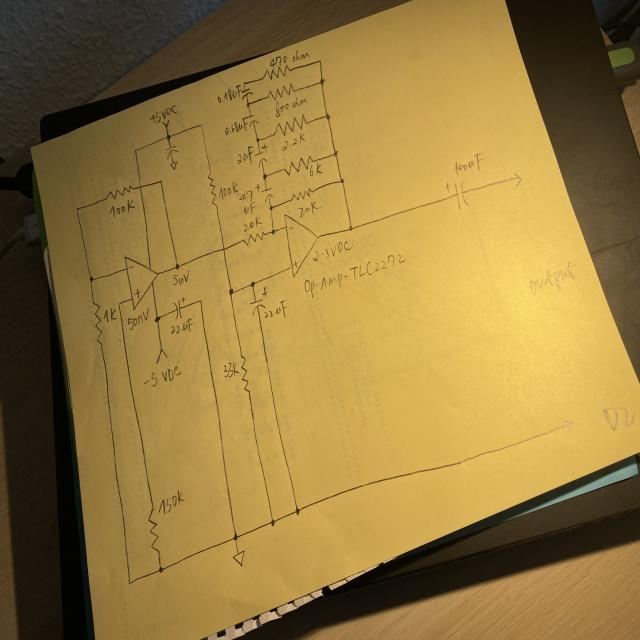capacitor: (445, 180, 469, 210), (249, 286, 268, 316), (255, 184, 273, 204), (172, 296, 185, 321), (255, 142, 267, 168), (164, 143, 179, 160), (246, 114, 258, 128), (241, 88, 254, 100)
crossover: (137, 183, 142, 191), (221, 245, 226, 252)
ground: (232, 548, 246, 568), (170, 160, 178, 169)
junction: (156, 564, 164, 575), (232, 532, 239, 542), (174, 262, 181, 271), (294, 506, 300, 516), (324, 112, 331, 120), (319, 77, 325, 86), (228, 287, 234, 296), (88, 275, 94, 284), (347, 225, 354, 232), (154, 315, 160, 323), (270, 518, 276, 526), (332, 149, 338, 157), (250, 280, 256, 288), (126, 578, 132, 586), (158, 178, 164, 186), (268, 204, 274, 212), (262, 172, 268, 180), (270, 228, 276, 235), (74, 205, 80, 212), (166, 133, 172, 140), (339, 177, 345, 184), (198, 122, 204, 128), (133, 147, 138, 154), (317, 58, 322, 65), (198, 298, 203, 304), (117, 301, 122, 307), (255, 136, 260, 142), (246, 101, 250, 107), (242, 81, 247, 84)
resistor: (273, 113, 308, 137), (283, 155, 317, 176), (148, 508, 161, 552), (267, 82, 296, 101), (92, 301, 104, 345), (105, 184, 134, 202), (240, 354, 252, 393), (262, 65, 291, 81), (290, 187, 314, 203), (242, 230, 265, 246), (206, 172, 216, 206)
terminal: (155, 347, 169, 364), (563, 418, 575, 436), (512, 172, 522, 188), (161, 119, 170, 126)
text: (304, 253, 406, 300), (529, 260, 577, 295), (312, 240, 352, 262), (270, 48, 310, 70), (143, 365, 181, 388), (158, 490, 187, 516), (452, 152, 484, 175), (275, 96, 307, 118), (108, 199, 136, 219), (127, 306, 149, 331), (218, 180, 242, 202), (216, 85, 242, 104), (224, 117, 250, 136), (149, 105, 178, 122), (264, 299, 287, 319), (282, 132, 306, 151), (243, 213, 265, 233), (297, 200, 321, 218), (170, 318, 193, 336), (236, 145, 254, 166), (223, 361, 240, 378), (172, 272, 190, 286), (239, 189, 254, 204), (103, 307, 117, 323), (243, 200, 257, 216), (309, 163, 323, 177), (132, 288, 141, 298), (128, 262, 135, 272), (292, 260, 299, 269), (288, 224, 295, 232)
